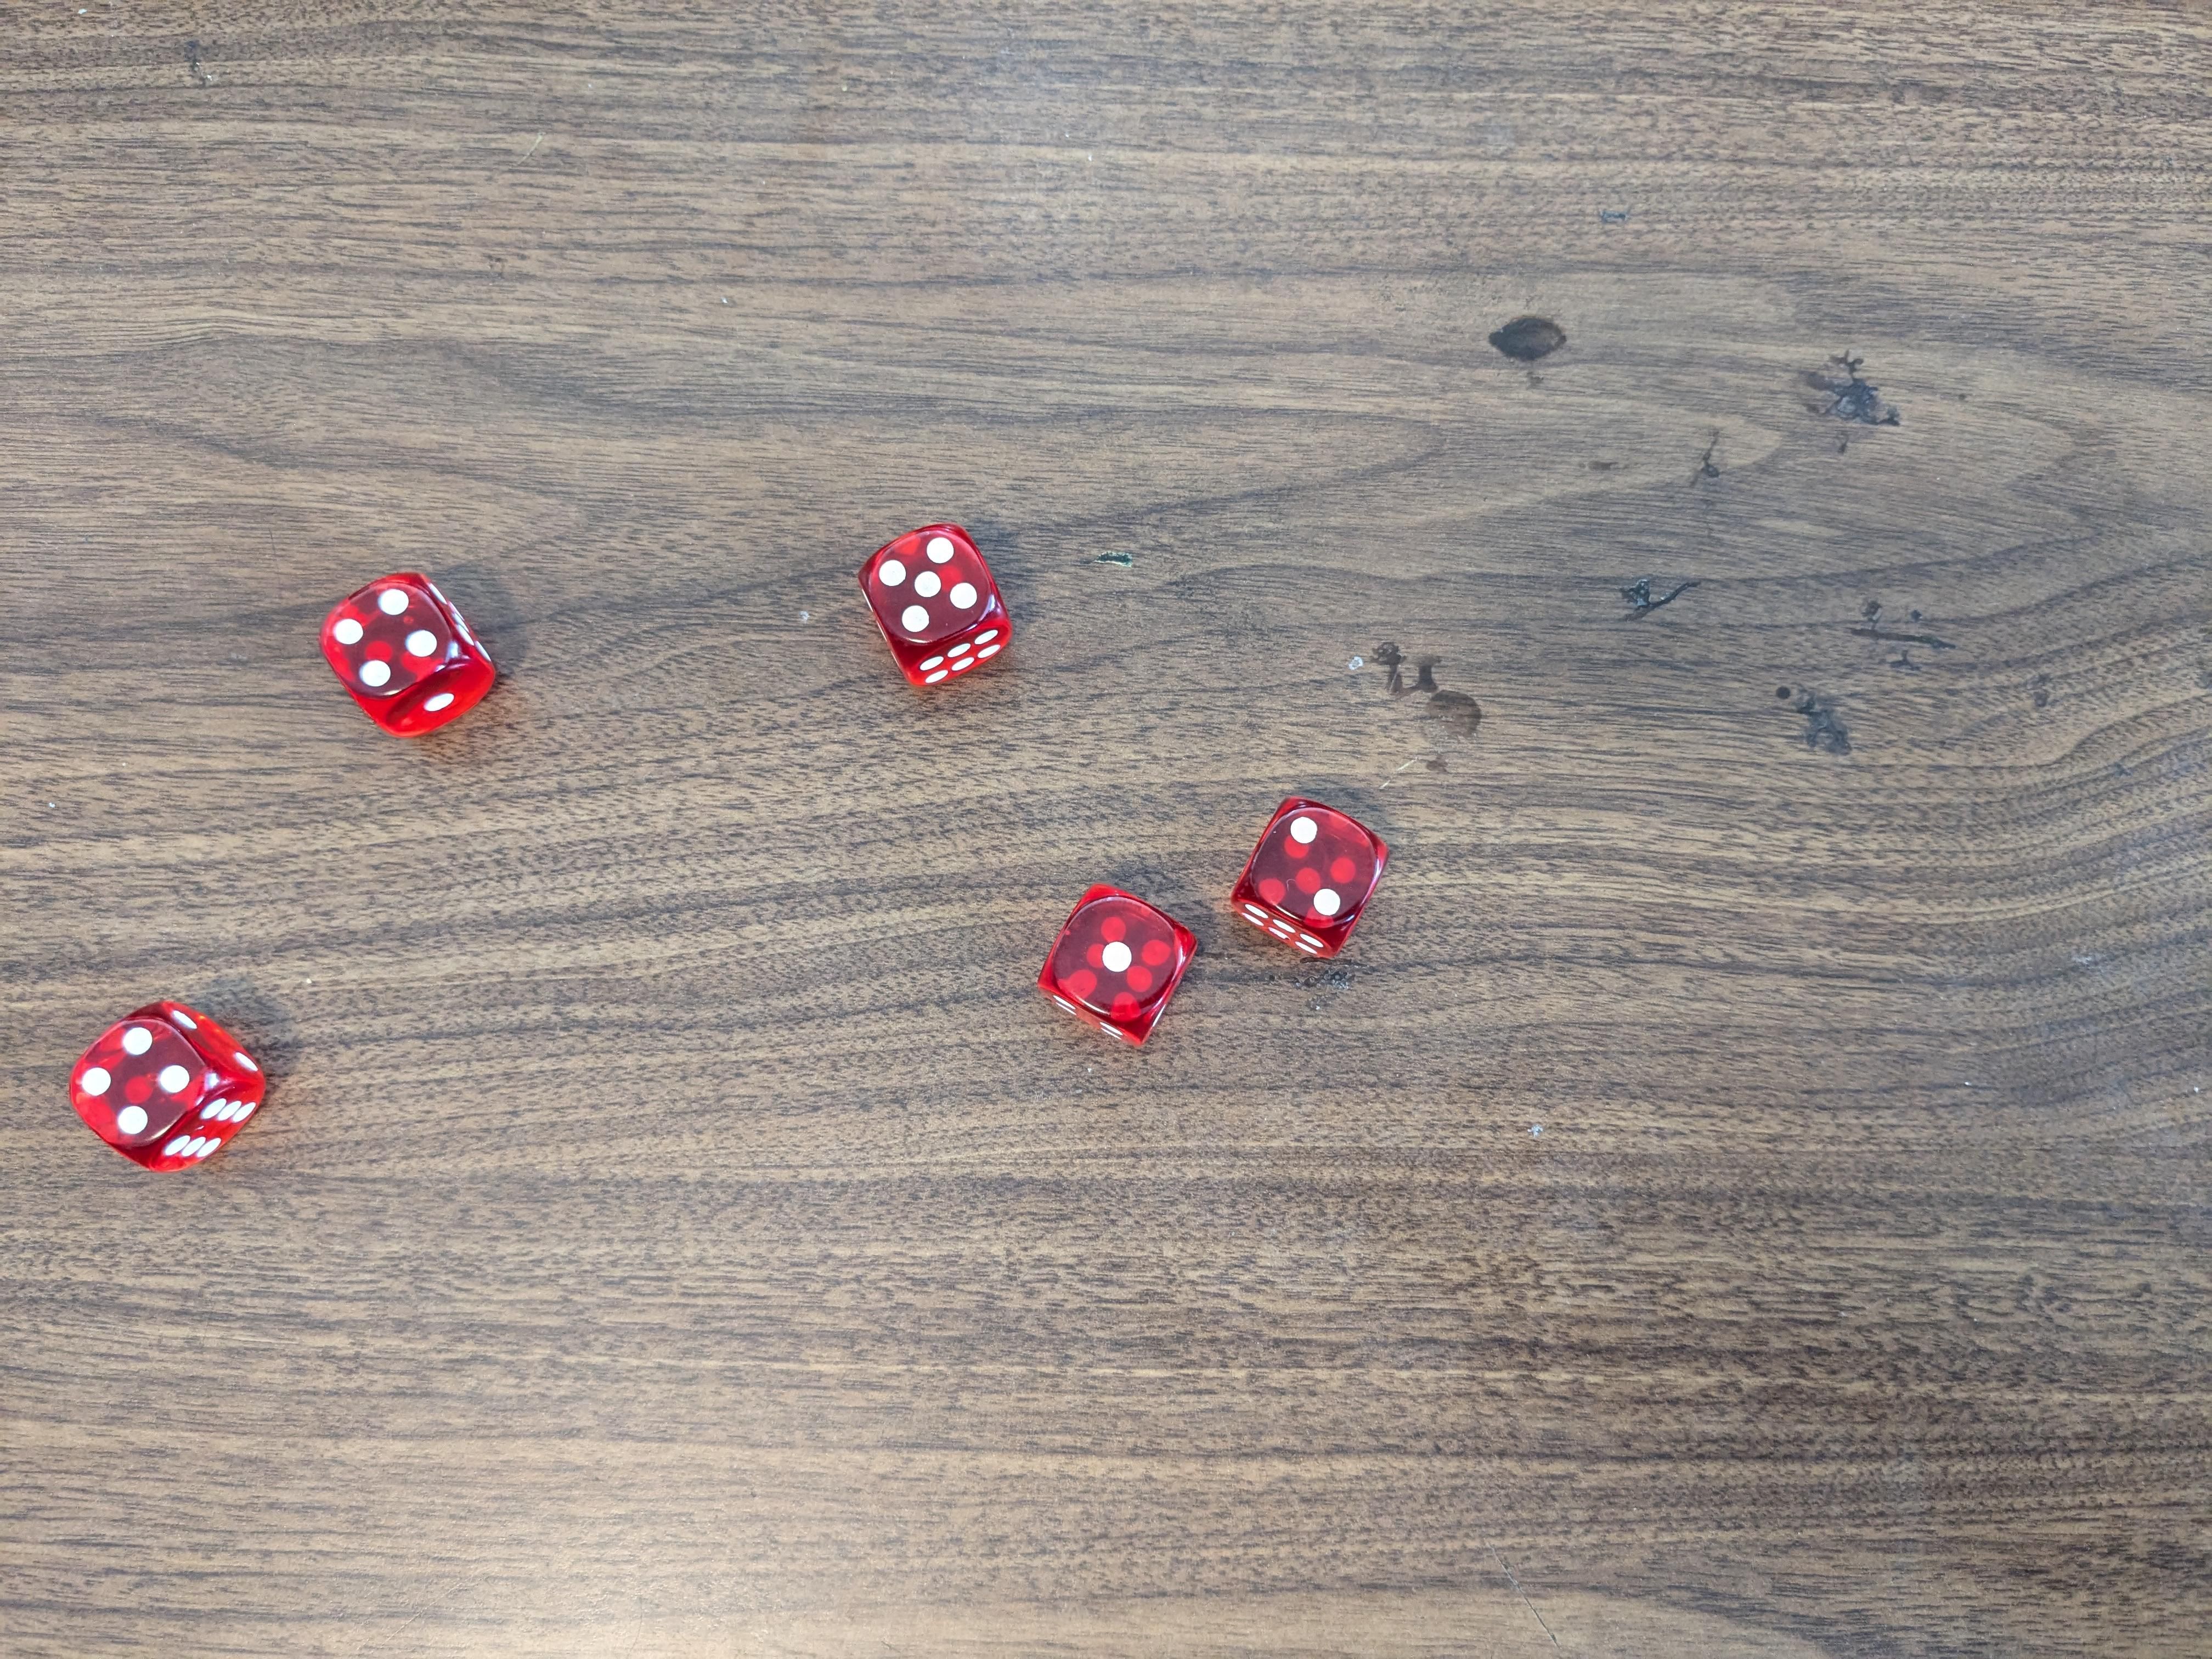five: (864, 521, 1015, 692)
four: (64, 1000, 265, 1178), (312, 570, 505, 744)
one: (1031, 882, 1204, 1042)
two: (1233, 795, 1388, 969)
